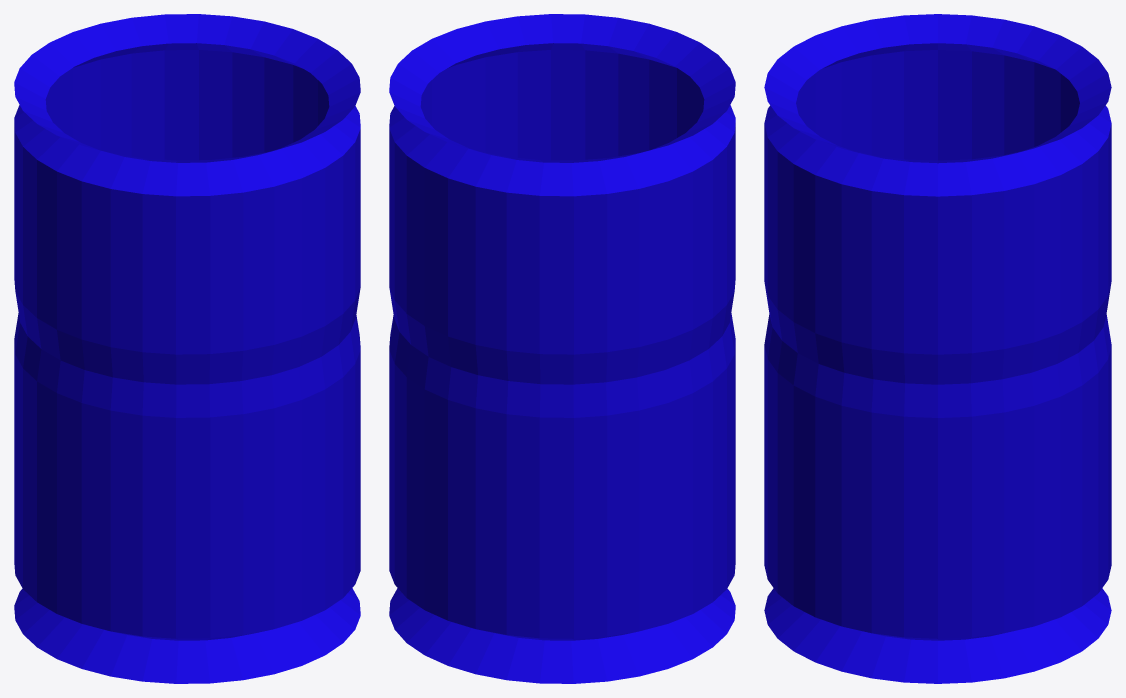
File: cuboazul.glb
3 renders of one model, left to right at view 1: azimuth 30°, elevation 25°; view 2: azimuth 150°, elevation 25°; view 3: azimuth 270°, elevation 25°, orthographic.
Visible parts, largest first — view 1: Cylinder.003; view 2: Cylinder.003; view 3: Cylinder.003.
Boxes of the visible parts, x1,y1,x2,y2 form: Cylinder.003: (14, 14, 360, 683); Cylinder.003: (389, 14, 735, 683); Cylinder.003: (764, 14, 1111, 683).
Bounding box in the file's own units: 1.81 × 3 × 1.81.
